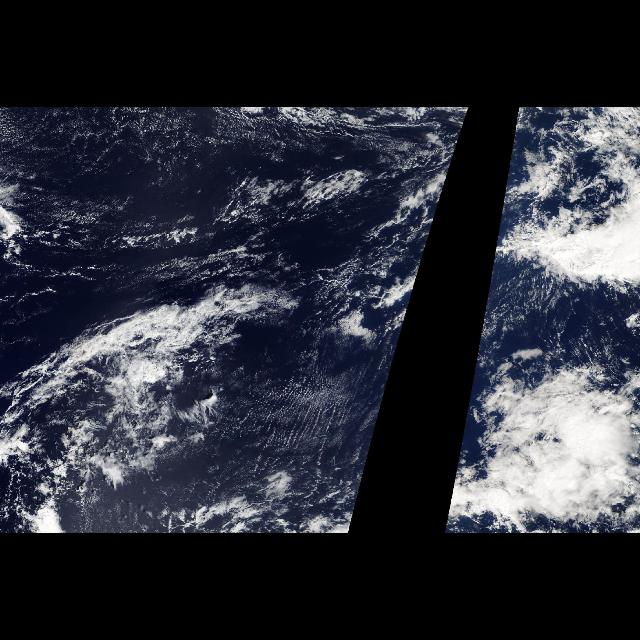Sugar: (1, 107, 453, 207), (227, 342, 393, 501)
